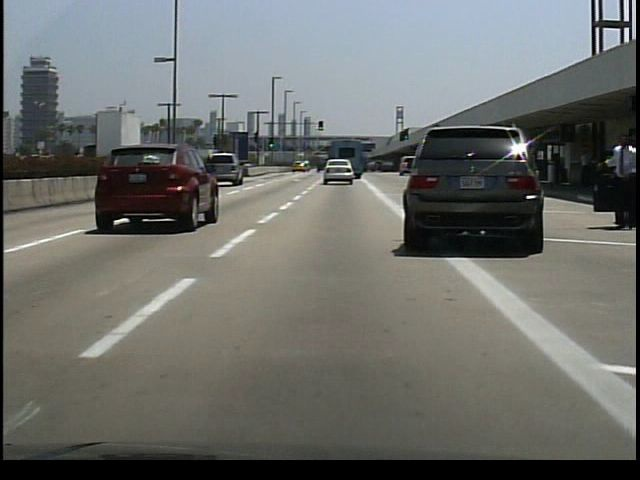person: (591, 130, 634, 228)
